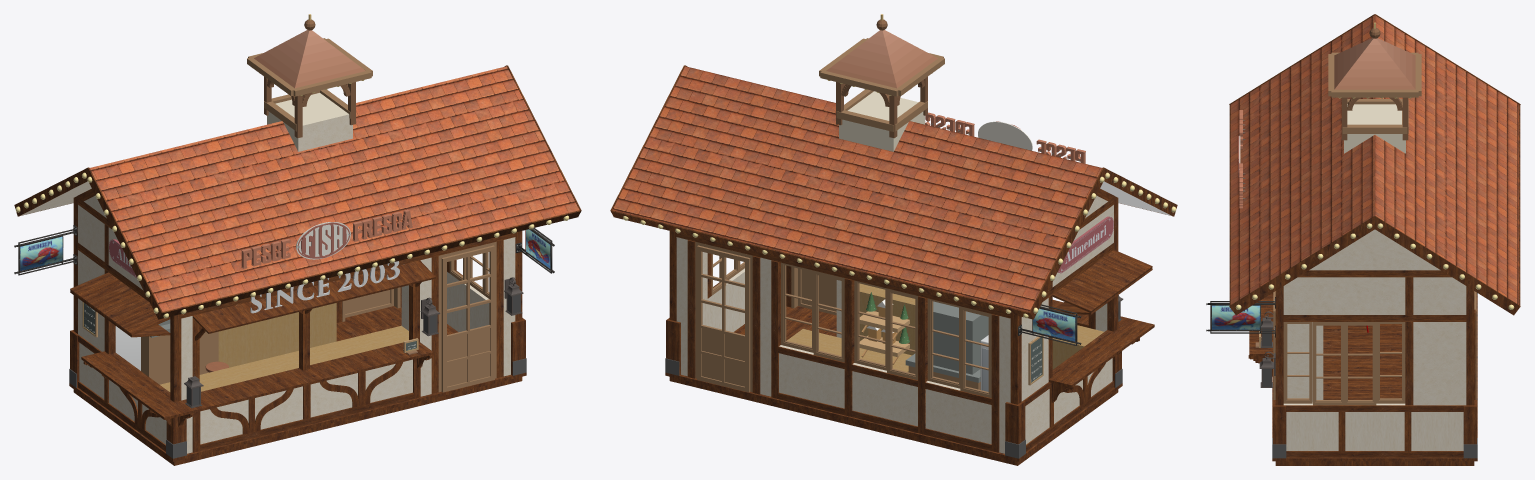
3 views of the same model, side by side, from view 1: azimuth 30°, elevation 25°; view 2: azimuth 150°, elevation 25°; view 3: azimuth 270°, elevation 25° (orthographic).
Visible parts, largest first — view 1: Geom3D (×25), Geom3D_ (×8), Geom3D_Component#24 (×4), Geom3D_Component#35, Geom3D_Thanh dinh#5, Geom3D_Component#29, Geom3D_SINCE 2003, Geom3D_Component#22, Geom3D_Thanh dinh#4, Geom3D_Bo goc#1; view 2: Geom3D (×24), Geom3D_ (×8), Geom3D_Component#36 (×4), Geom3D_Component#27 (×3), Geom3D_Component#25 (×3), Geom3D_Thanh dinh#5 (×2), Geom3D_Component#35, Geom3D_Component#1 (×2), Geom3D_Component#22 (×3), Geom3D_Component#32, Geom3D_Bo goc#1 (×2), Geom3D_Thanh dinh#4; view 3: Geom3D (×11), Geom3D_ (×10), Geom3D_Thanh dinh#4 (×2), Geom3D_Component#23 (×2), Geom3D_Component#25 (×2), Geom3D_Component#22 (×2), Geom3D_Component#27 (×2), Geom3D_Bo goc#1 (×2), Geom3D_Component#35 (×2), Geom3D_Component#21, Geom3D_Component#28.
Boxes of the visible parts, <box> form: Geom3D (×25): <box>20,42,579,453</box>; Geom3D_ (×8): <box>14,167,526,465</box>; Geom3D_Component#24 (×4): <box>299,240,503,393</box>; Geom3D_Component#35: <box>160,210,580,318</box>; Geom3D_Thanh dinh#5: <box>200,392,413,450</box>; Geom3D_Component#29: <box>181,233,515,318</box>; Geom3D_SINCE 2003: <box>250,261,399,313</box>; Geom3D_Component#22: <box>170,314,181,402</box>; Geom3D_Thanh dinh#4: <box>78,381,165,451</box>; Geom3D_Bo goc#1: <box>511,318,525,375</box>; Geom3D (×24): <box>612,42,1113,453</box>; Geom3D_ (×8): <box>665,167,1177,465</box>; Geom3D_Component#36 (×4): <box>687,240,999,452</box>; Geom3D_Component#27 (×3): <box>813,270,991,398</box>; Geom3D_Component#25 (×3): <box>781,262,960,388</box>; Geom3D_Thanh dinh#5 (×2): <box>778,346,991,450</box>; Geom3D_Component#35: <box>611,210,1031,318</box>; Geom3D_Component#1 (×2): <box>844,278,927,434</box>; Geom3D_Component#22 (×3): <box>669,195,1118,404</box>; Geom3D_Component#32: <box>676,233,1010,318</box>; Geom3D_Bo goc#1 (×2): <box>666,318,1025,444</box>; Geom3D_Thanh dinh#4: <box>1026,381,1113,451</box>; Geom3D (×11): <box>1212,15,1518,450</box>; Geom3D_ (×10): <box>1229,14,1520,465</box>; Geom3D_Thanh dinh#4 (×2): <box>1286,405,1463,457</box>; Geom3D_Component#23 (×2): <box>1283,270,1466,321</box>; Geom3D_Component#25 (×2): <box>1313,322,1376,405</box>; Geom3D_Component#22 (×2): <box>1275,286,1474,405</box>; Geom3D_Component#27 (×2): <box>1283,322,1405,403</box>; Geom3D_Bo goc#1 (×2): <box>1273,400,1476,444</box>; Geom3D_Component#35 (×2): <box>1229,105,1520,305</box>; Geom3D_Component#21: <box>1405,322,1413,405</box>; Geom3D_Component#28: <box>1405,277,1413,314</box>.
Bounding box in the file's own units: 7.71 × 6.09 × 4.75.
Materials: 60 (12 with a texture image).
